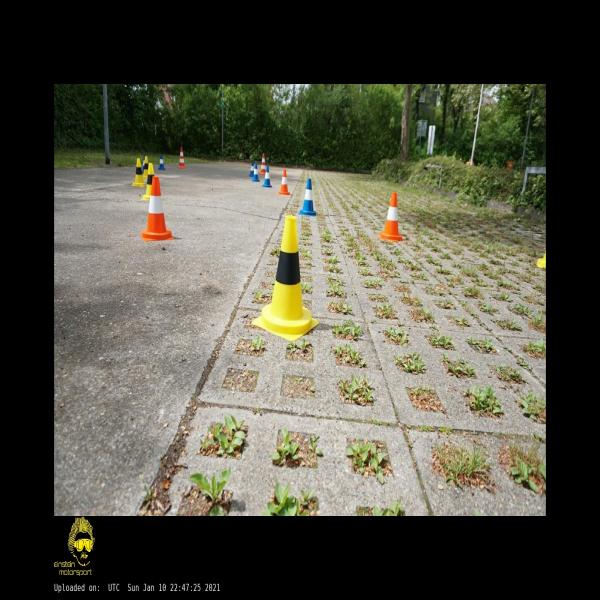blue_cone: (298, 179, 317, 216), (262, 166, 272, 187), (252, 162, 260, 182), (248, 161, 255, 177), (158, 155, 165, 170)
large_orange_cone: (178, 146, 186, 168), (259, 153, 266, 175)
orange_cone: (140, 176, 174, 240), (376, 192, 406, 241), (278, 170, 290, 195)
yellow_cone: (252, 216, 319, 342), (142, 163, 154, 199), (131, 158, 146, 186), (142, 156, 149, 178)
